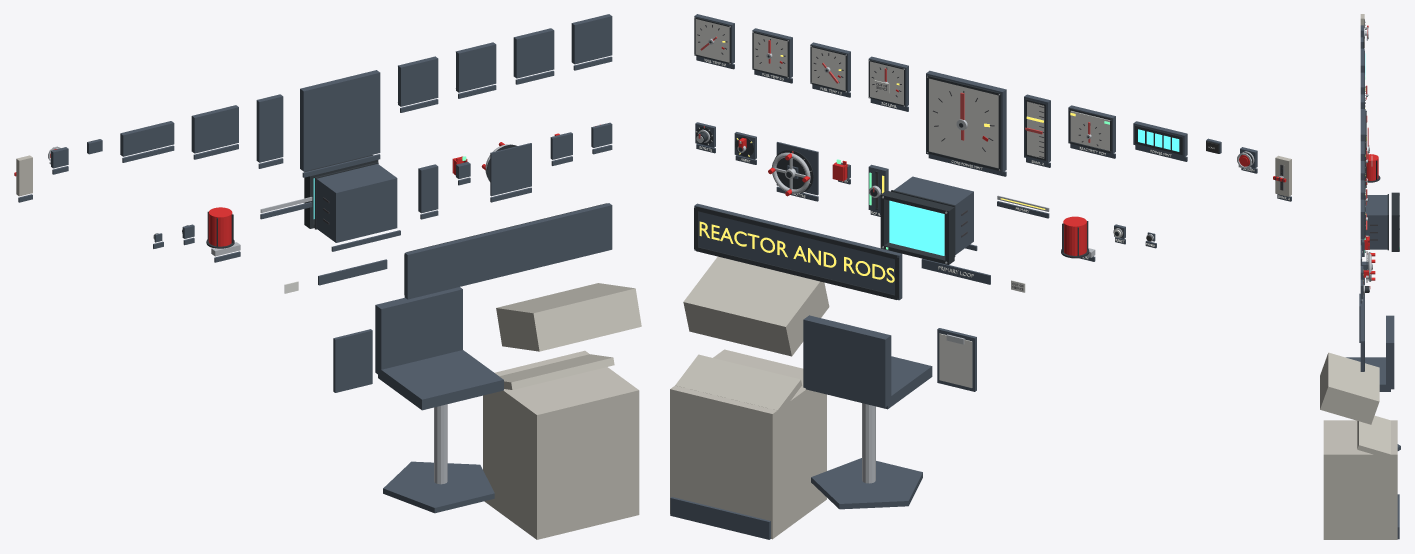
File: PanelKits.fbx
The picture shows the model from 3 angles, left to right: view 1: azimuth 30°, elevation 25°; view 2: azimuth 150°, elevation 25°; view 3: azimuth 270°, elevation 25°; orthographic projection. The views are drawn at different scales.
Visible parts, largest first — view 1: K14_a_ConsoleBeige, K15_a_PanelSlate, K21_a_Base, K01L_a_Base, K13_a_Housing, K15_a_FiveStarBase, K18_a_BinderBody, K03_a_Base, K10_a_PanelSlate, K01_mid_Base, K02_a_Base, K01_lo_Base (+8 smaller); view 2: K14_a_ConsoleBeige, K15_a_PanelSlate, K21_a_Base, K01L_a_Faceplate, K15_a_FiveStarBase, K21_a_BezelBlack, CRT_A1_Core, K13_a_BezelBlack, K13_a_Housing, K14_a_KickPlate, K18_a_PageQuad, K21_a_SignText (+14 smaller); view 3: K14_a_ConsoleBeige, K13_a_Housing, K15_a_PanelSlate, K13_a_BezelBlack, K21_a_Base, BIND_KLAXON_Beacon_L, K01L_a_Base, K01_lo_Base, K01L_a_BezelBlack, K14_a_KickPlate, K04_a_Base.
Part boxes in pixels (x1,y1,x2,y2): K14_a_ConsoleBeige: (483,283,641,539); K15_a_PanelSlate: (375,287,503,410); K21_a_Base: (404,203,612,299); K01L_a_Base: (300,70,380,171); K13_a_Housing: (316,164,397,242); K15_a_FiveStarBase: (383,461,494,513); K18_a_BinderBody: (333,329,372,392); K03_a_Base: (191,105,238,153); K10_a_PanelSlate: (490,143,531,196); K01_mid_Base: (513,28,554,78); K02_a_Base: (256,94,283,162); K01_lo_Base: (571,14,612,64); K14_a_ConsoleBeige: (670,256,829,539); K15_a_PanelSlate: (803,315,932,409); K21_a_Base: (694,203,902,300); K01L_a_Faceplate: (929,78,998,168); K15_a_FiveStarBase: (811,458,922,509); K21_a_BezelBlack: (694,206,899,299); CRT_A1_Core: (889,200,944,255); K13_a_BezelBlack: (880,190,955,264); K13_a_Housing: (894,176,973,254); K14_a_KickPlate: (670,497,770,539); K18_a_PageQuad: (939,333,972,387); K21_a_SignText: (699,221,894,282); K14_a_ConsoleBeige: (1320,352,1397,539); K13_a_Housing: (1365,195,1387,249); K15_a_PanelSlate: (1346,315,1394,391); K13_a_BezelBlack: (1387,192,1399,251); K21_a_Base: (1360,277,1364,371); BIND_KLAXON_Beacon_L: (1366,154,1378,180); K01L_a_Base: (1360,109,1365,186); K01_lo_Base: (1360,199,1364,238); K01L_a_BezelBlack: (1365,110,1369,187); K14_a_KickPlate: (1397,494,1399,539); K04_a_Base: (1360,48,1364,72).
Bounding box in the file's own units: 3.48 × 2.69 × 0.6011.
